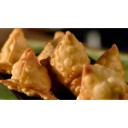samosa: (48, 31, 89, 90), (6, 48, 53, 98), (79, 63, 128, 100), (1, 28, 29, 73), (97, 44, 125, 76)
